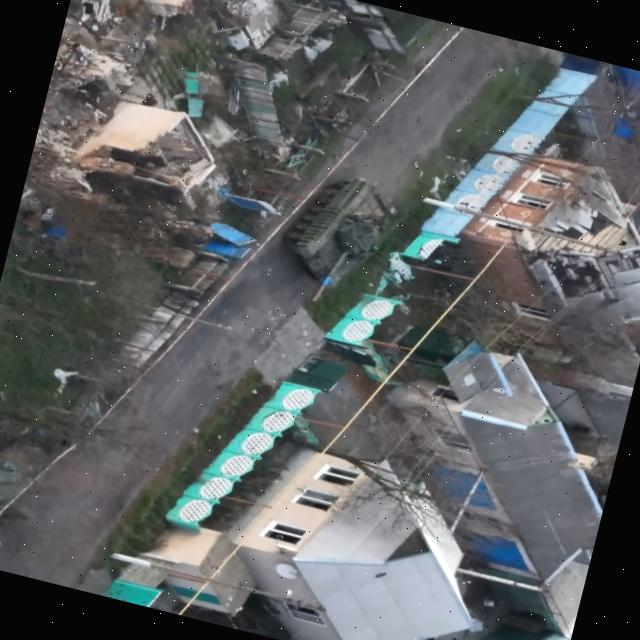MBT: (266, 160, 404, 318)
